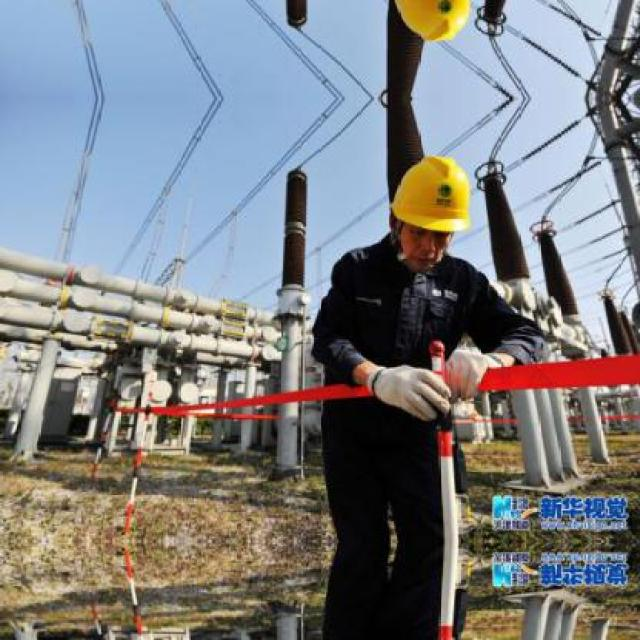helmet: (387, 146, 484, 274), (386, 0, 485, 51)
